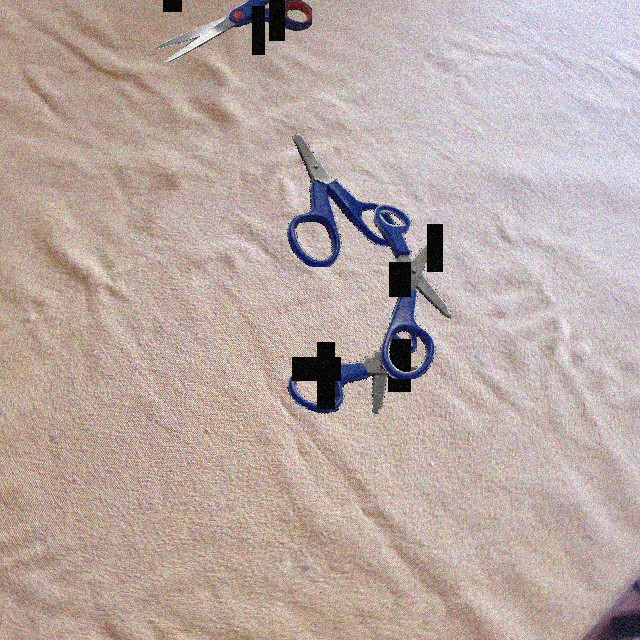scissors: (287, 133, 396, 267), (373, 203, 451, 379), (287, 320, 417, 414), (155, 0, 312, 62)
